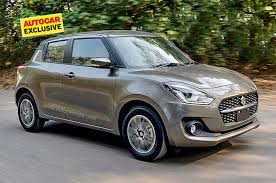Swift: (11, 31, 262, 161)
